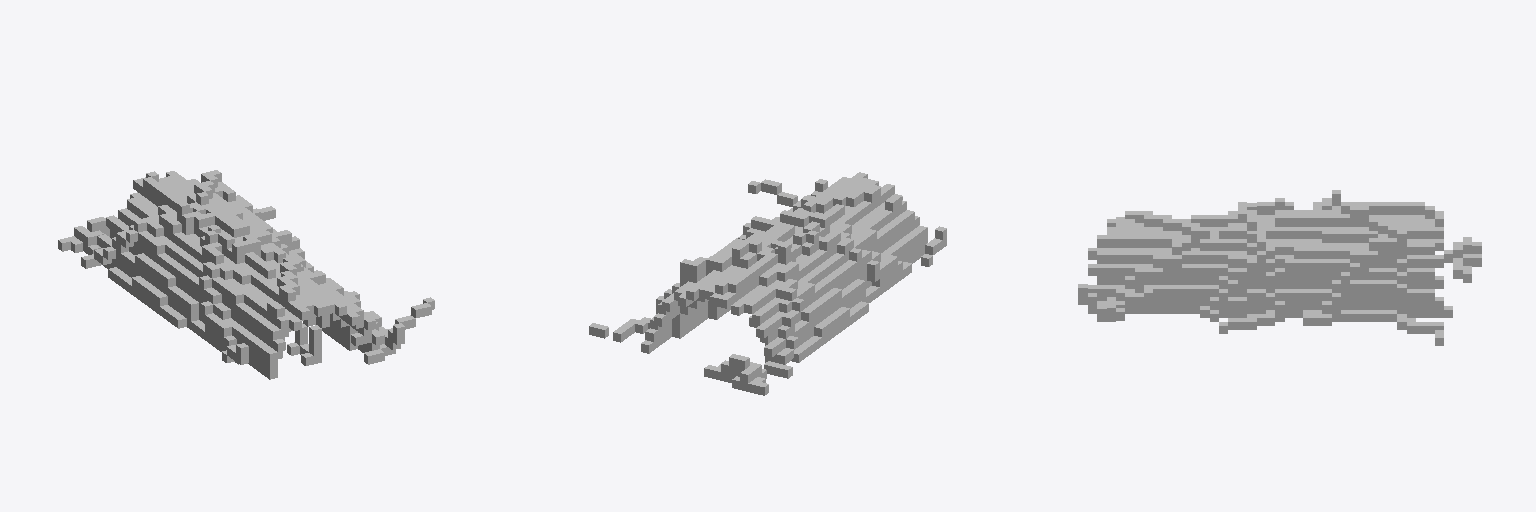
Rendered from Tiles 2 morceau 2.obj.
3 renders of one model, left to right at view 1: azimuth 30°, elevation 25°; view 2: azimuth 150°, elevation 25°; view 3: azimuth 270°, elevation 25°, orthographic.
Visible parts, largest first — view 1: Tiles 2 morceau 2; view 2: Tiles 2 morceau 2; view 3: Tiles 2 morceau 2.
Boxes of the visible parts, x1=… form: Tiles 2 morceau 2: x1=58, y1=170, x2=434, y2=379; Tiles 2 morceau 2: x1=589, y1=172, x2=946, y2=395; Tiles 2 morceau 2: x1=1078, y1=190, x2=1481, y2=345.
Size of the model in its own units: 24 by 10 by 43.